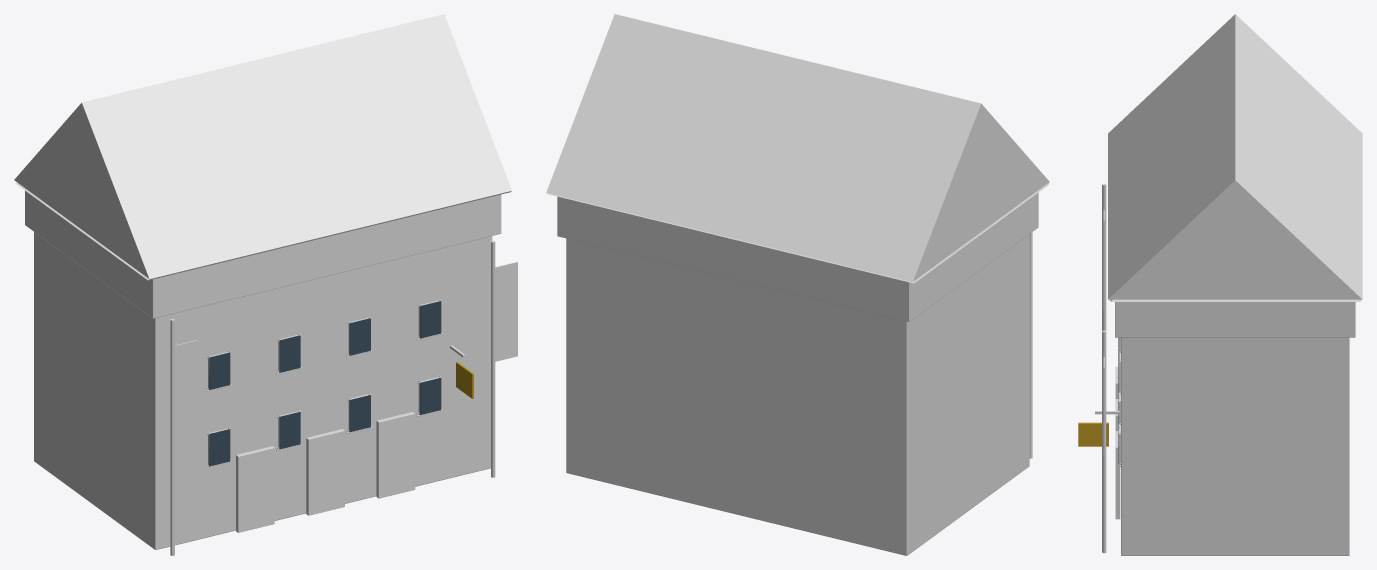
The model's file is ars_guild.fbx.
3 renders of one model, left to right at view 1: azimuth 30°, elevation 25°; view 2: azimuth 150°, elevation 25°; view 3: azimuth 270°, elevation 25°, orthographic. The views are drawn at different scales.
Parts seen in each view (by area): view 1: ars_guild; view 2: ars_guild; view 3: ars_guild.
Part boxes in pixels (bbox=[...]): ars_guild: bbox=[14, 14, 517, 555]; ars_guild: bbox=[546, 14, 1049, 555]; ars_guild: bbox=[1078, 14, 1362, 555].
Bounding box in the file's own units: 2605 × 2765 × 1865.
